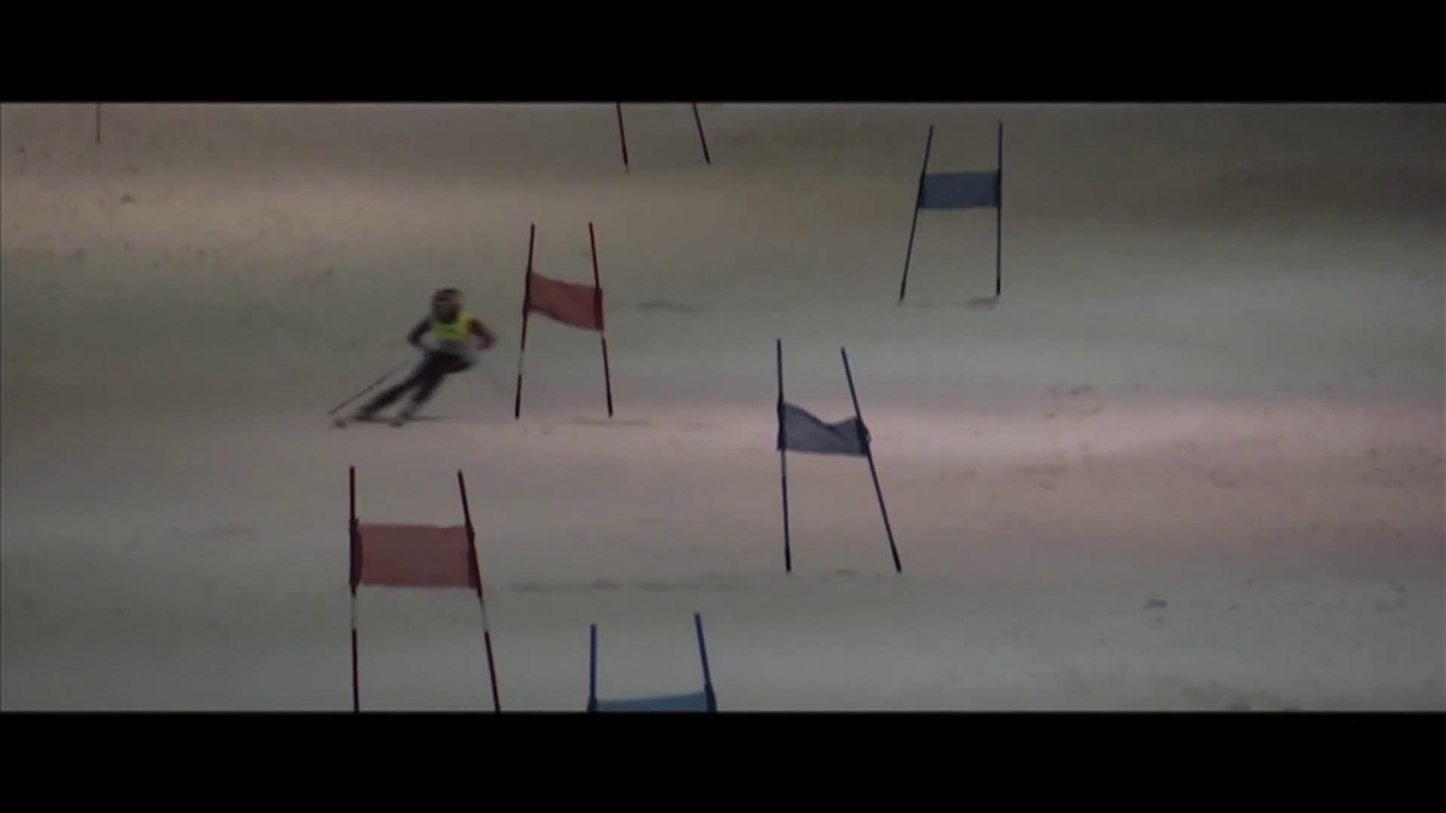gate: (898, 122, 1005, 303), (840, 348, 901, 573), (586, 614, 717, 712), (457, 470, 499, 712), (776, 340, 791, 574), (349, 467, 358, 712)
